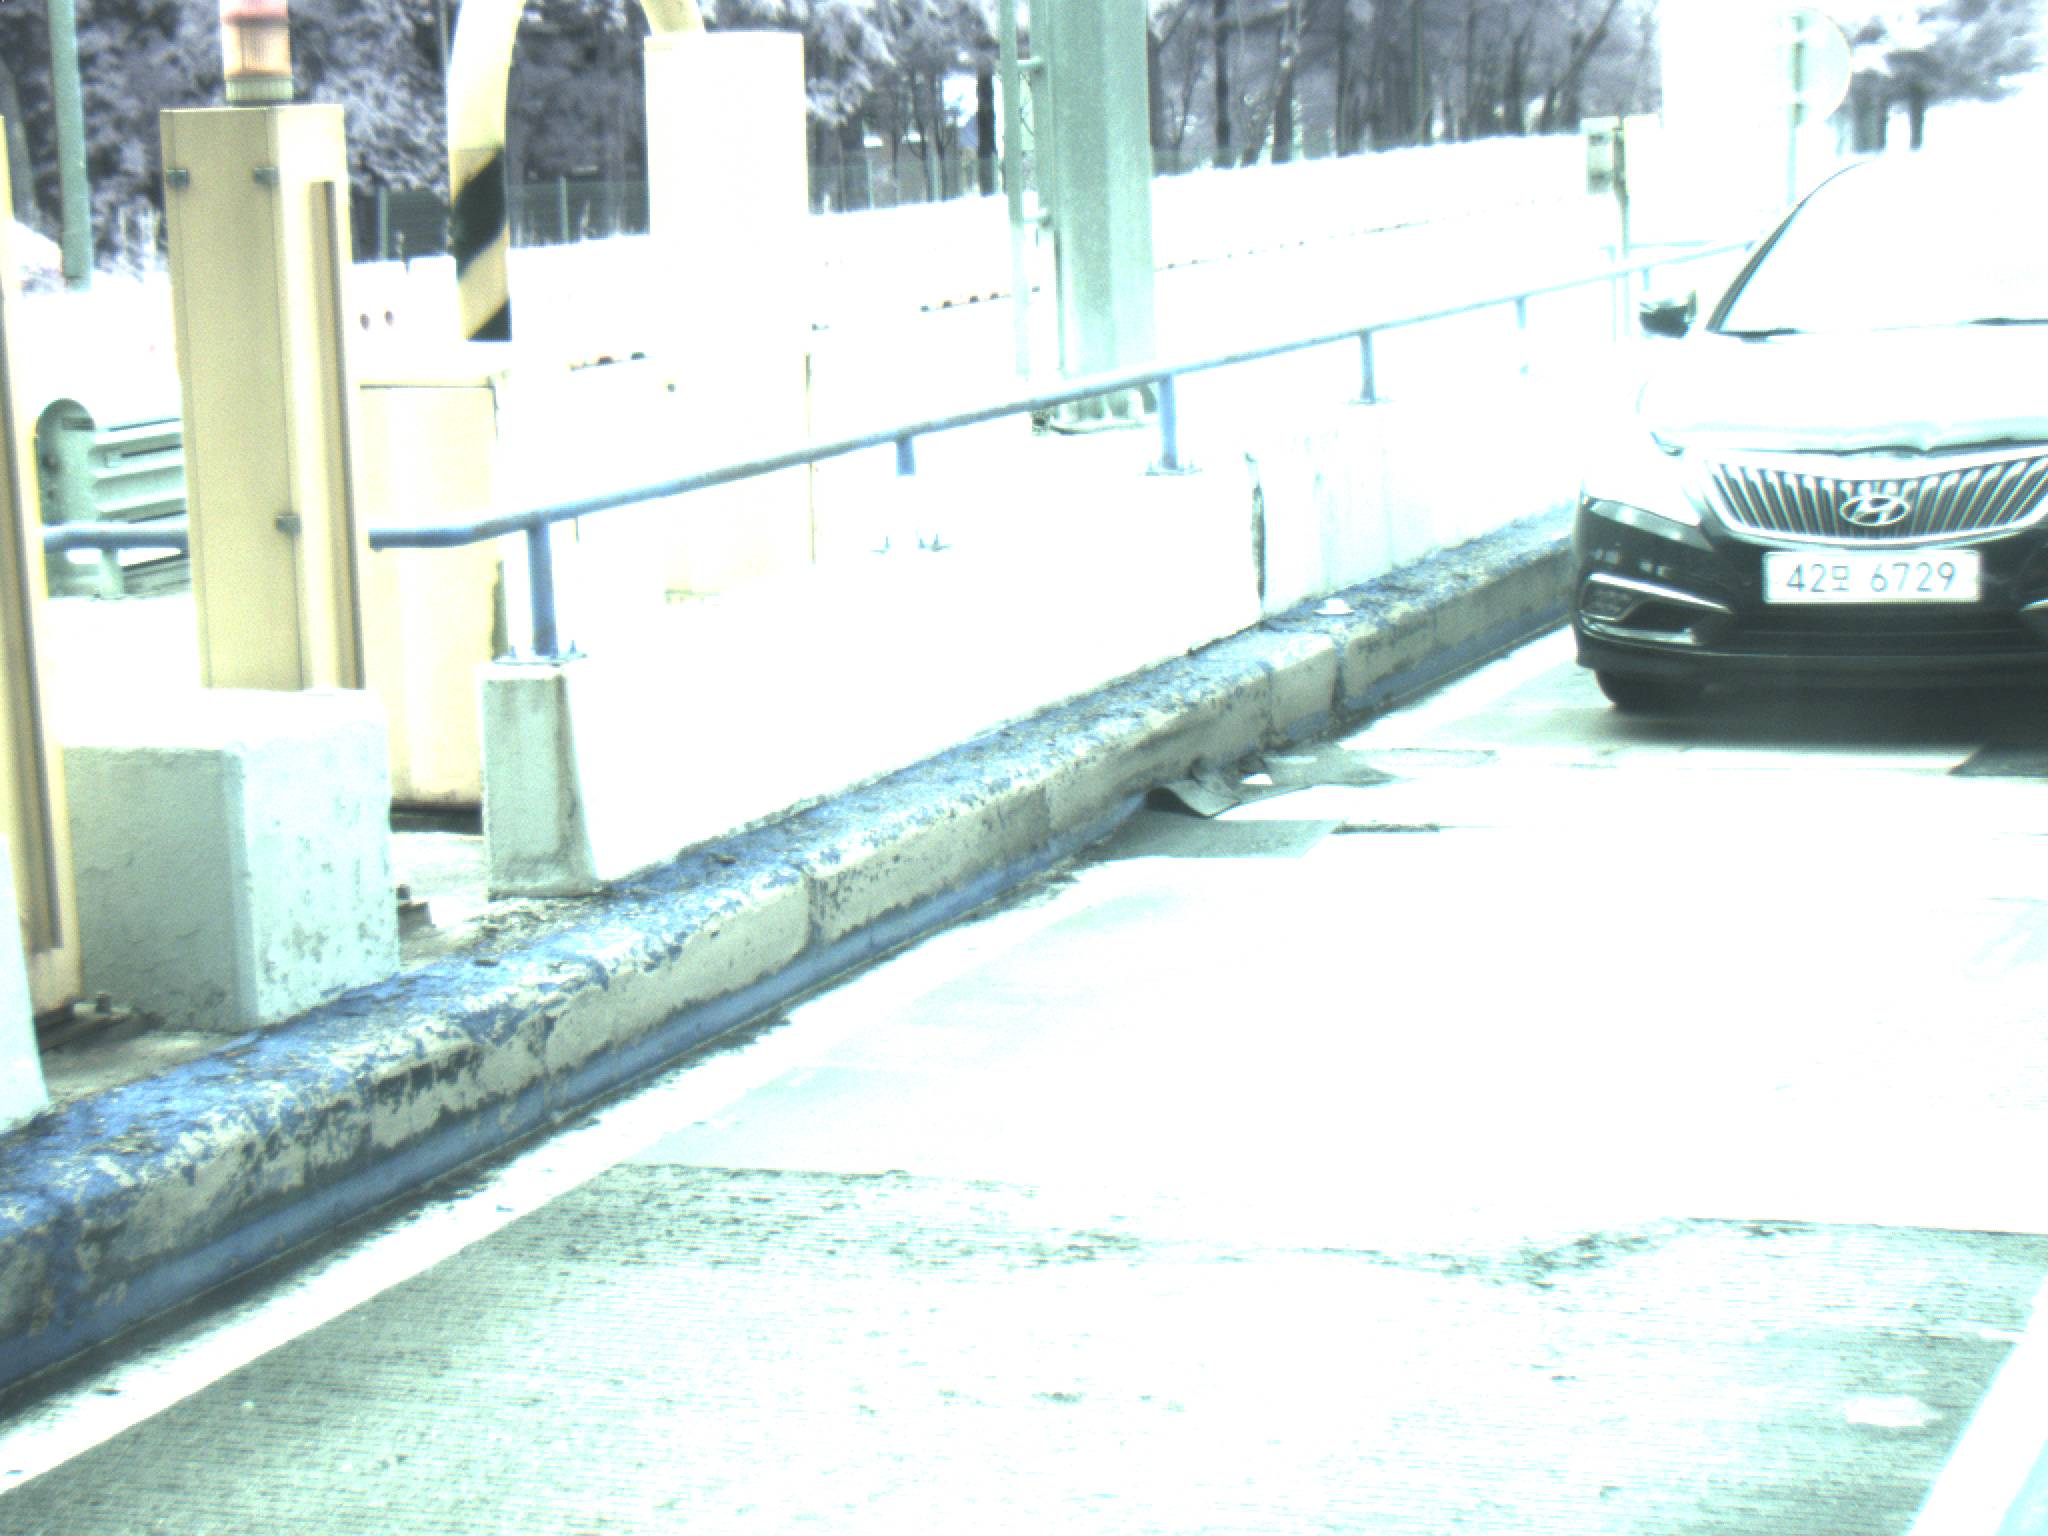car: (1570, 149, 2048, 717)
plate: (1763, 549, 1984, 602)
